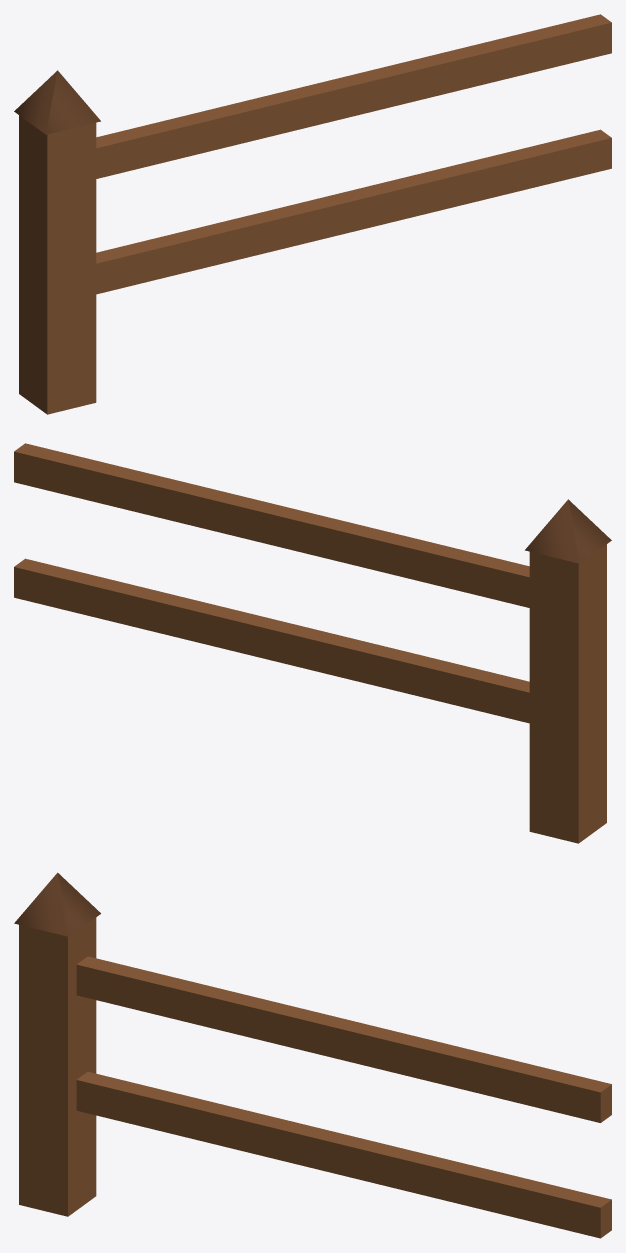
Rendered from fence.glb.
3 views of the same model, one above another, from view 1: azimuth 30°, elevation 25°; view 2: azimuth 150°, elevation 25°; view 3: azimuth 330°, elevation 25° (orthographic).
Visible parts, largest first — view 1: Wood_8A5A34, Cap_5C3A22; view 2: Wood_8A5A34, Cap_5C3A22; view 3: Wood_8A5A34, Cap_5C3A22.
Boxes of the visible parts, x1,y1,x2,y2 form: Wood_8A5A34: (19, 14, 611, 414); Cap_5C3A22: (14, 70, 100, 134); Wood_8A5A34: (14, 443, 606, 843); Cap_5C3A22: (525, 499, 611, 563); Wood_8A5A34: (19, 917, 611, 1238); Cap_5C3A22: (14, 872, 100, 936).
Bounding box in the file's own units: 8.4 × 4.57 × 0.8081.
